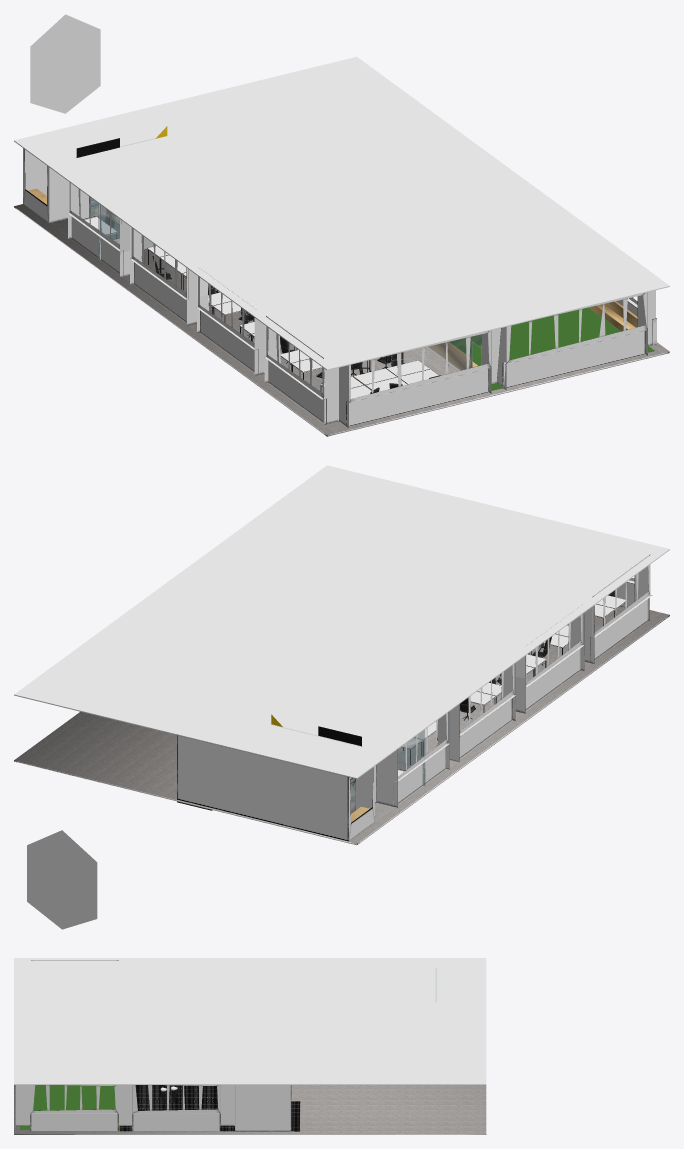
Rendered from planta6grupos.obj.
3 views of the same model, one above another, from view 1: azimuth 30°, elevation 25°; view 2: azimuth 150°, elevation 25°; view 3: azimuth 270°, elevation 25° (orthographic). The views are drawn at different scales.
Visible parts, largest first — view 1: Techo_Cube.029, pared, comunicacion_Cylinder.026, banco_Cube.030, silla_Cube.011, cristaleraAgora_Cube.007, cristalerasFrontales_Cube.002; view 2: Techo_Cube.029, pared, cristalerasFrontales_Cube.002; view 3: Techo_Cube.029, pared.
Part boxes in pixels (<box>): Techo_Cube.029: <box>14,56,669,370</box>; pared: <box>14,14,669,436</box>; comunicacion_Cylinder.026: <box>320,360,438,398</box>; banco_Cube.030: <box>430,301,637,369</box>; silla_Cube.011: <box>103,210,440,393</box>; cristaleraAgora_Cube.007: <box>428,334,481,370</box>; cristalerasFrontales_Cube.002: <box>98,203,156,259</box>; Techo_Cube.029: <box>14,465,669,778</box>; pared: <box>14,554,669,929</box>; cristalerasFrontales_Cube.002: <box>398,729,425,785</box>; Techo_Cube.029: <box>14,958,486,1084</box>; pared: <box>14,960,486,1134</box>.
Size of the model in its own units: 9.76 by 3.12 by 21.43.
Materials: 33 (22 with a texture image).
